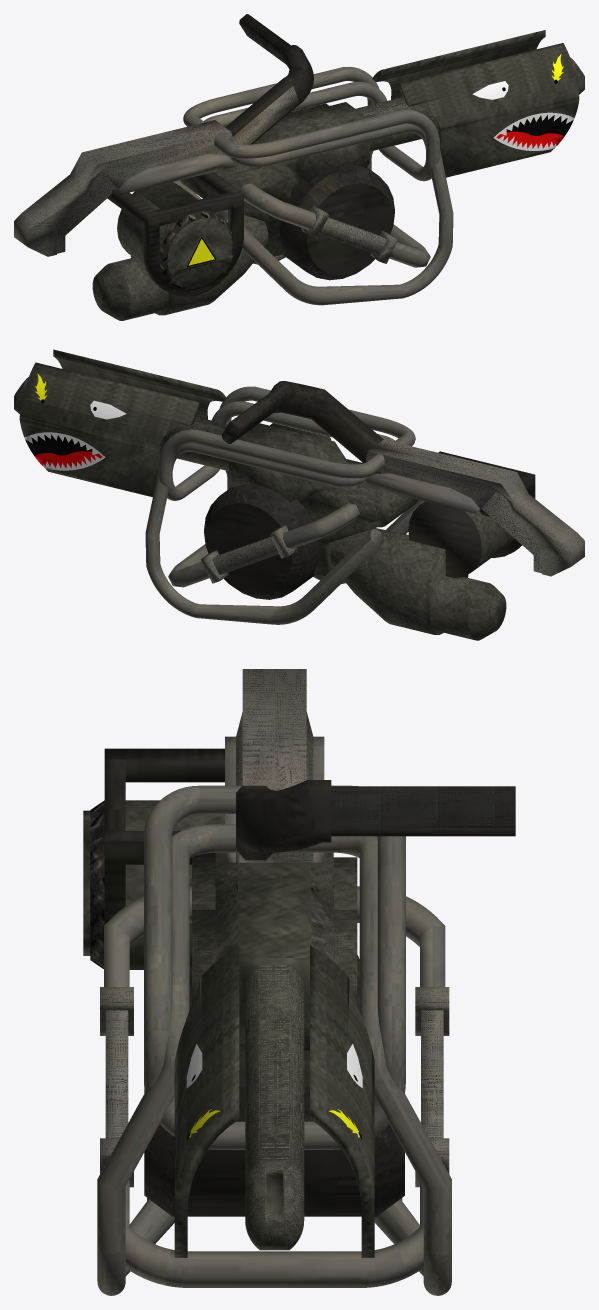
Rendered from flame.dae.
The picture shows the model from 3 angles, top to bottom: view 1: azimuth 30°, elevation 25°; view 2: azimuth 150°, elevation 25°; view 3: azimuth 270°, elevation 25°; orthographic projection. The views are drawn at different scales.
Parts seen in each view (by area): view 1: Component_10, Component_1_1, Component_3_1, Component_1_2; view 2: Component_10, Component_1_2, Component_3_1, Component_1_1; view 3: Component_10, Component_3_1, Component_1_1, Component_1_2.
Boxes of the visible parts, left/top/right/bottom form: Component_10: left=14, top=14, right=584, bottom=320; Component_1_1: left=399, top=43, right=579, bottom=177; Component_3_1: left=107, top=172, right=243, bottom=296; Component_1_2: left=372, top=30, right=545, bottom=99; Component_10: left=14, top=377, right=584, bottom=640; Component_1_2: left=19, top=362, right=199, bottom=497; Component_3_1: left=408, top=451, right=535, bottom=578; Component_1_1: left=53, top=349, right=226, bottom=419; Component_10: left=97, top=669, right=515, bottom=1295; Component_3_1: left=83, top=748, right=224, bottom=969; Component_1_1: left=174, top=946, right=239, bottom=1257; Component_1_2: left=310, top=945, right=374, bottom=1257.
Size of the model in its own units: 45.73 by 15.25 by 17.64.
14 materials, 10 textured.
